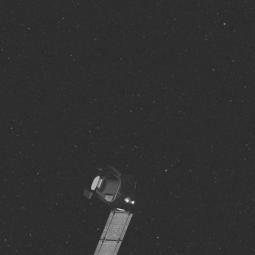earth_observation_sat_1: (70, 154, 146, 255)
